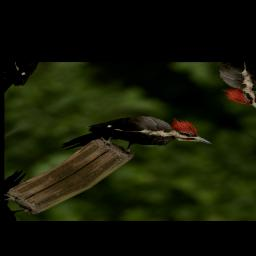Woodpecker: (49, 88, 225, 193)
